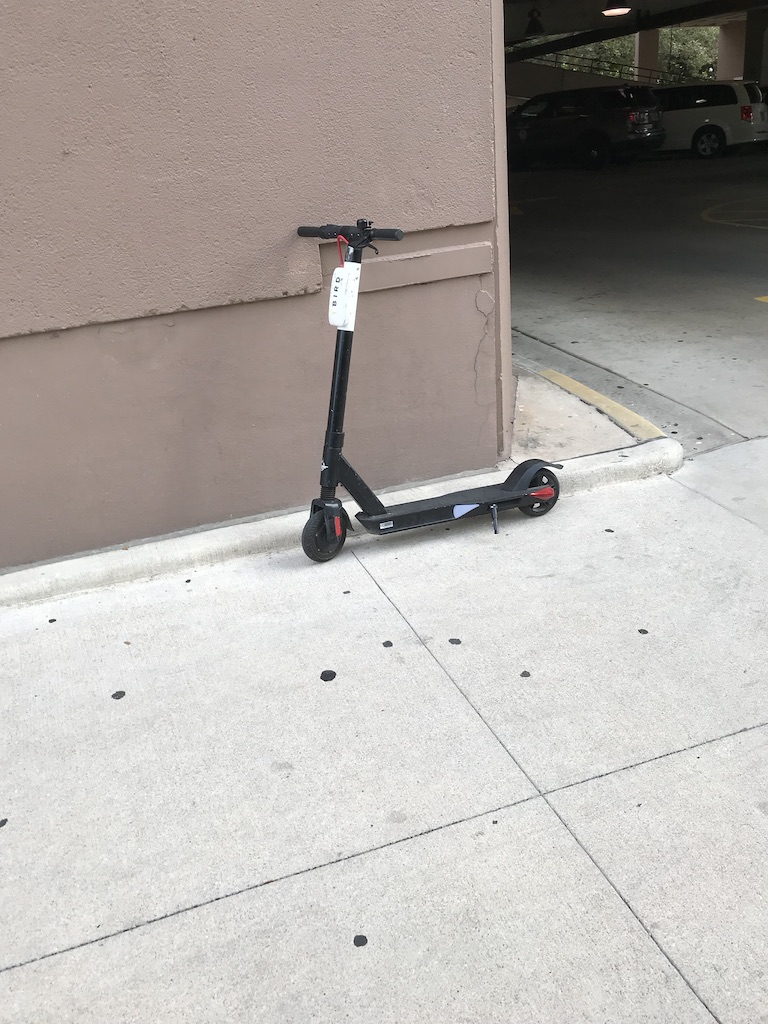scooter: (295, 220, 564, 566)
